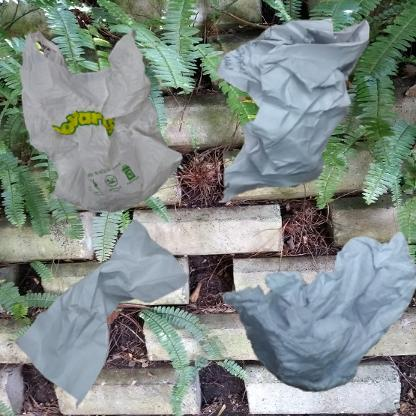bolsa: (10, 10, 198, 233)
papel: (213, 213, 416, 405), (10, 213, 192, 416), (213, 10, 371, 206)
